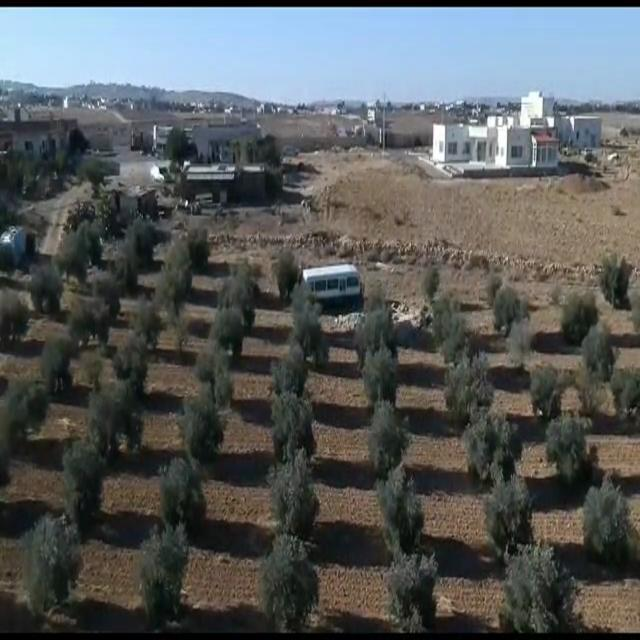trees: (495, 533, 585, 640), (460, 396, 527, 485), (474, 464, 541, 548), (440, 347, 499, 441), (578, 472, 636, 564), (546, 411, 598, 506), (525, 354, 570, 426), (355, 296, 401, 363), (574, 314, 621, 379), (362, 332, 405, 402), (596, 245, 638, 312), (552, 286, 600, 343), (609, 362, 640, 433), (489, 282, 529, 333), (502, 323, 540, 372), (430, 294, 462, 352), (447, 316, 483, 362), (573, 369, 603, 413), (483, 268, 501, 318), (419, 262, 440, 296)
